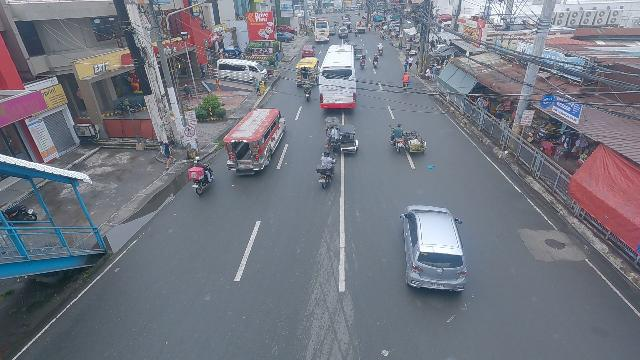bus: (320, 43, 358, 109), (314, 18, 330, 42)
car: (398, 202, 469, 298), (301, 44, 316, 57), (338, 27, 349, 39)
jeepney: (223, 105, 286, 175), (295, 56, 319, 90), (342, 21, 352, 33)
motorcycle: (314, 152, 338, 189), (190, 159, 215, 194), (303, 79, 312, 101), (402, 72, 410, 88), (359, 54, 366, 69), (373, 52, 379, 68), (378, 42, 383, 55), (354, 29, 359, 37)
truck: (354, 21, 366, 33)
van: (215, 58, 266, 86)
